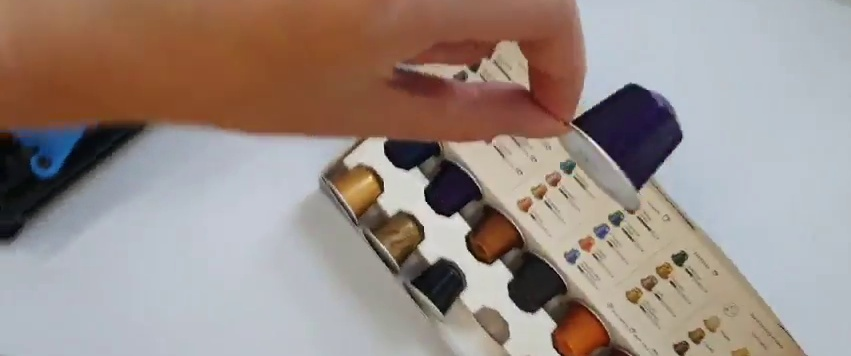capsule_11: (558, 81, 688, 212)
